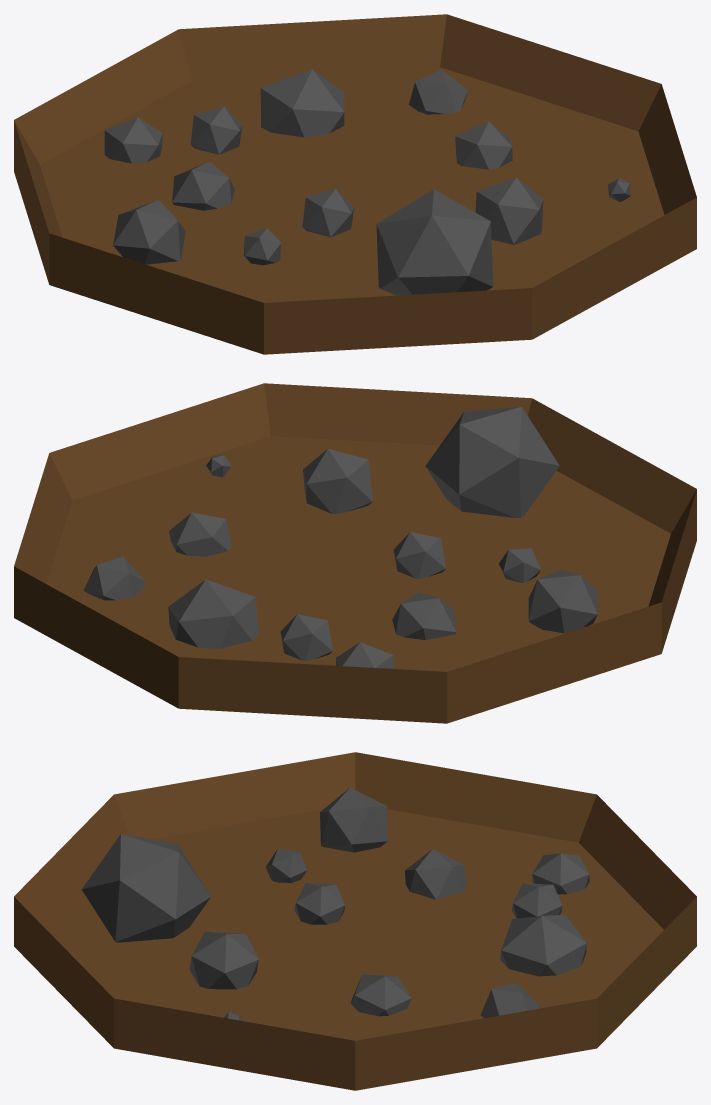
The model's file is Iron.fbx.
3 renders of one model, top to bottom at view 1: azimuth 30°, elevation 25°; view 2: azimuth 150°, elevation 25°; view 3: azimuth 270°, elevation 25°, orthographic. The views are drawn at different scales.
Visible parts, largest first — view 1: Cylinder.006; view 2: Cylinder.006; view 3: Cylinder.006.
Boxes of the visible parts, x1,y1,x2,y2 form: Cylinder.006: (14, 14, 696, 354); Cylinder.006: (14, 383, 696, 723); Cylinder.006: (14, 752, 696, 1090).
Bounding box in the file's own units: 5.41 × 1.1 × 5.41.
